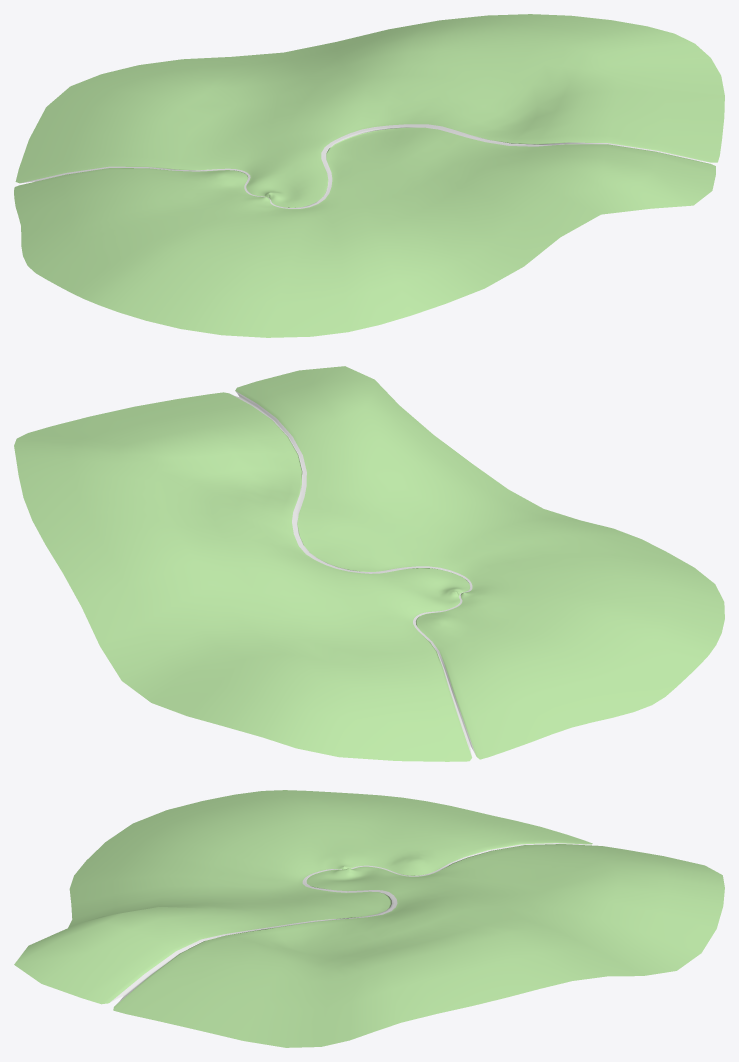
File: FamiliarHouseGround.fbx
3 renders of one model, top to bottom at view 1: azimuth 30°, elevation 25°; view 2: azimuth 150°, elevation 25°; view 3: azimuth 270°, elevation 25°, orthographic. The views are drawn at different scales.
Parts seen in each view (by area): view 1: Ground; view 2: Ground; view 3: Ground.
Part boxes in pixels (left/top/right/bottom): Ground: left=14, top=14, right=724, bottom=337; Ground: left=14, top=366, right=724, bottom=761; Ground: left=14, top=790, right=724, bottom=1047.
Size of the model in its own units: 12728 by 1960 by 11451.
